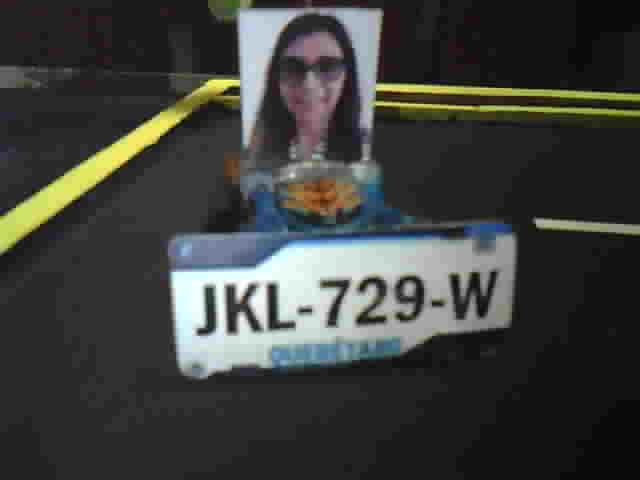PLACA: (166, 217, 521, 382)
ROSTRO: (245, 13, 370, 163)
